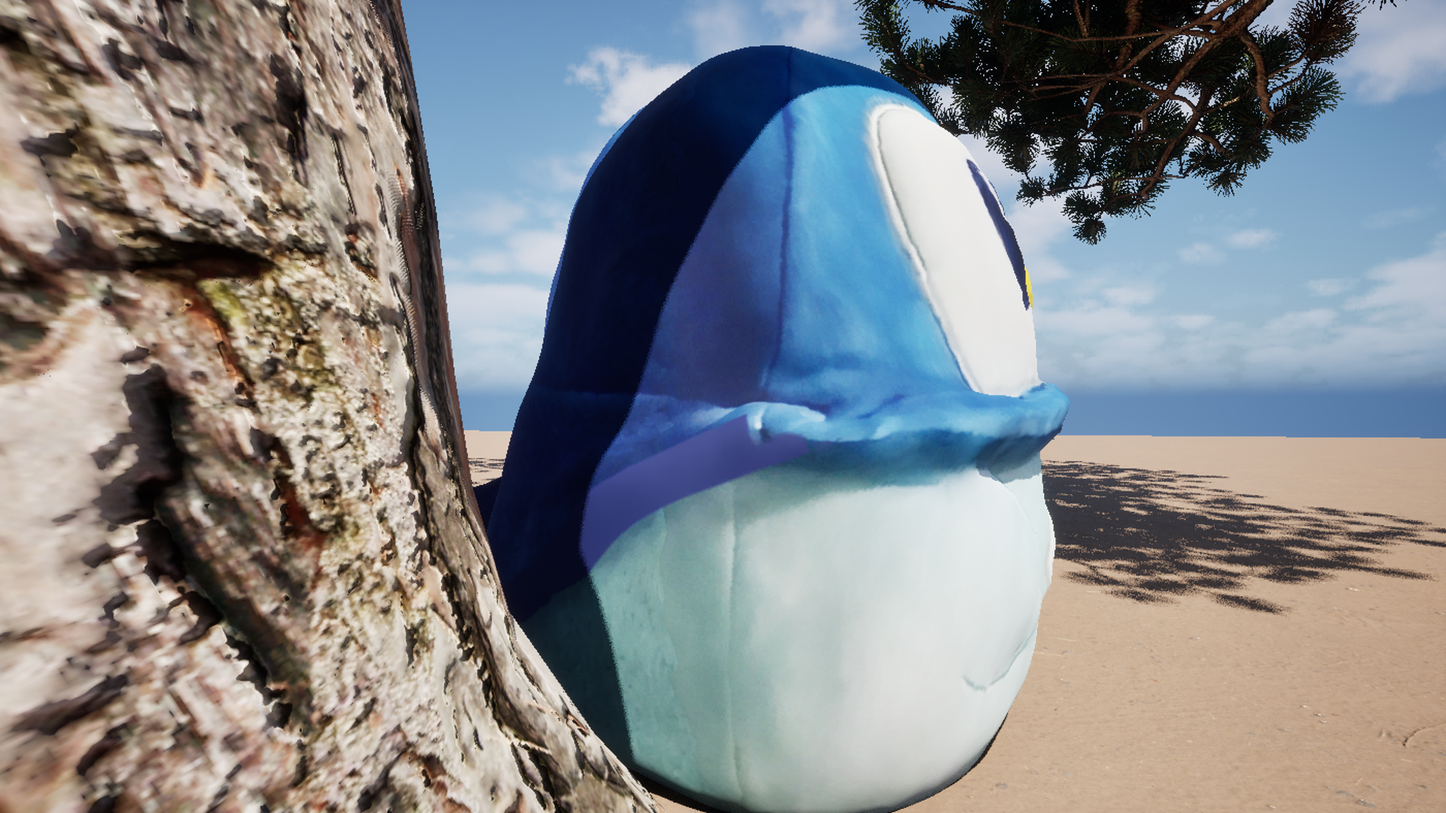Piplup: (167, 0, 1185, 813)
